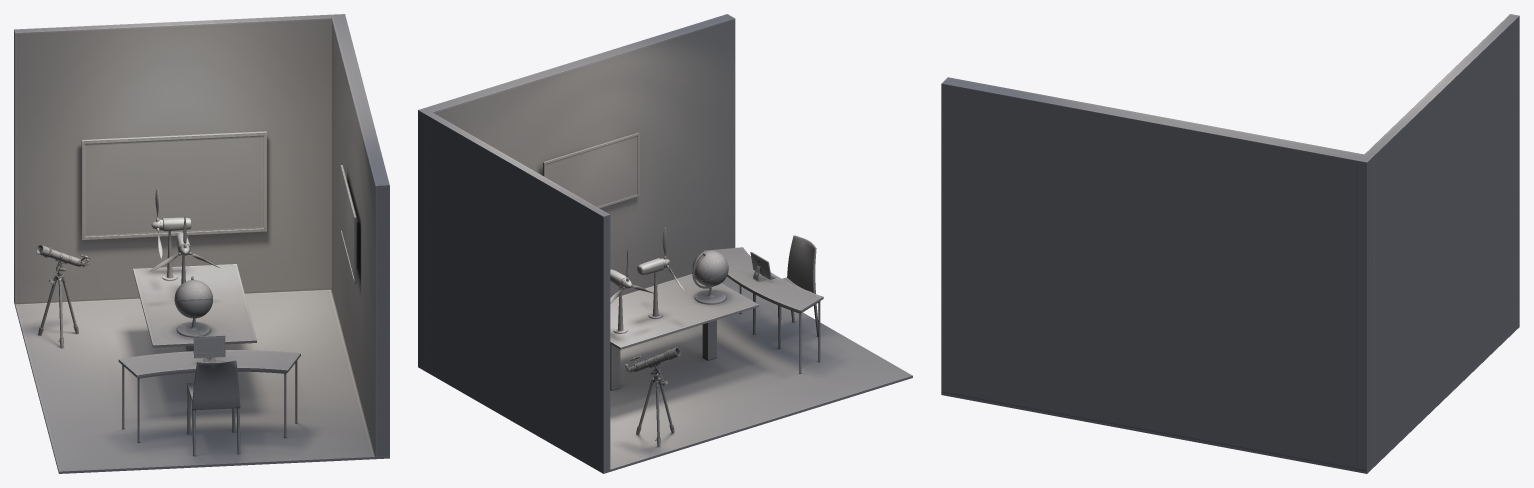
File: edulab_v1.glb
3 views of the same model, side by side, from view 1: azimuth 30°, elevation 25°; view 2: azimuth 150°, elevation 25°; view 3: azimuth 270°, elevation 25° (orthographic). The views are drawn at different scales.
Visible parts, largest first — view 1: Box014; view 2: Box014; view 3: Box014.
Boxes of the visible parts, left/top/right/bottom form: Box014: left=14, top=14, right=389, bottom=473; Box014: left=418, top=14, right=912, bottom=473; Box014: left=941, top=14, right=1519, bottom=473.
Bounding box in the file's own units: 23.83 × 15.32 × 25.79.
Materials: 1 (1 with a texture image).
